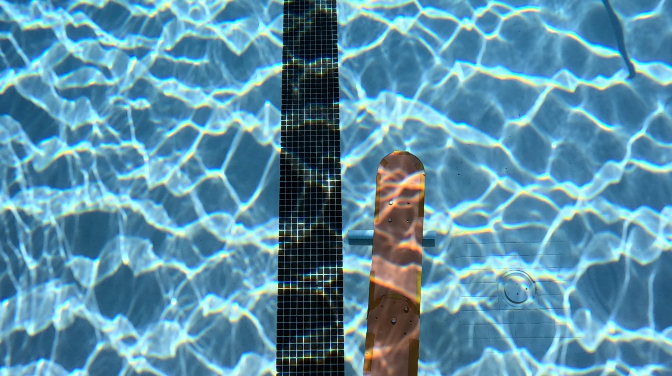pathmarker: (363, 151, 426, 375)
